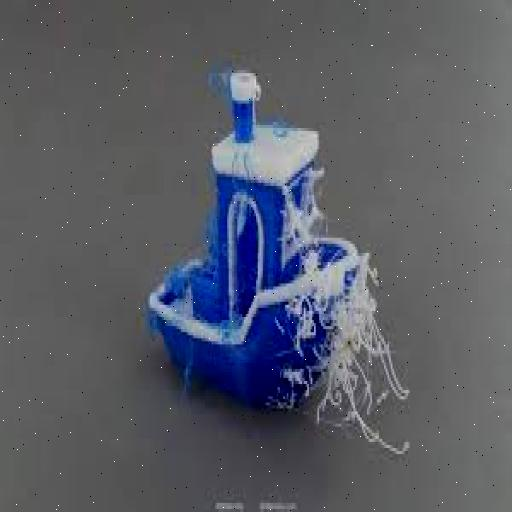spaghetti: (300, 274, 406, 467), (286, 166, 332, 266), (206, 56, 232, 116)
